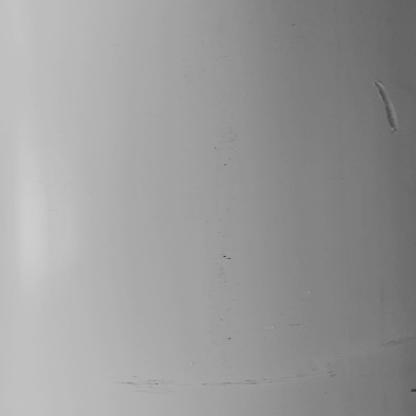sunshang: (372, 81, 399, 132)
